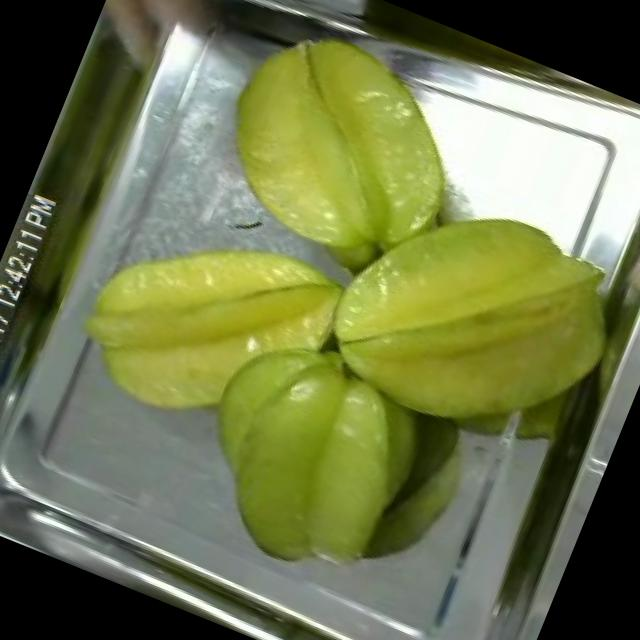fruit: (294, 150, 640, 486), (180, 0, 504, 303), (47, 176, 369, 477), (156, 298, 460, 610), (588, 112, 640, 321)
